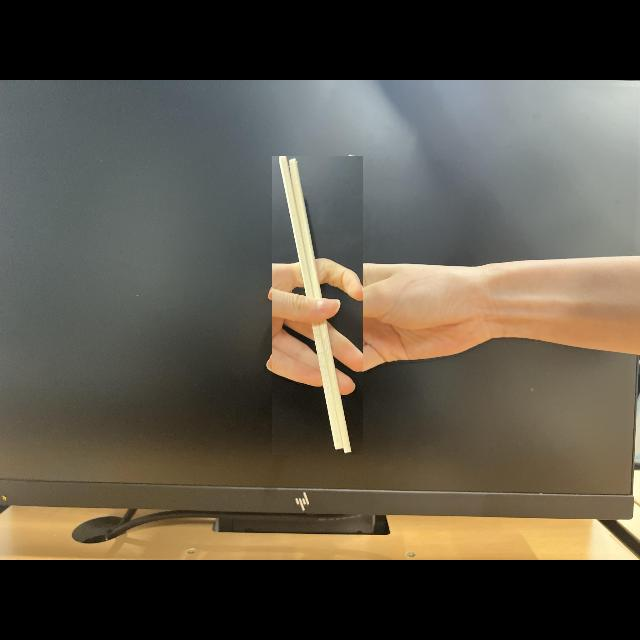stick: (272, 157, 362, 455)
